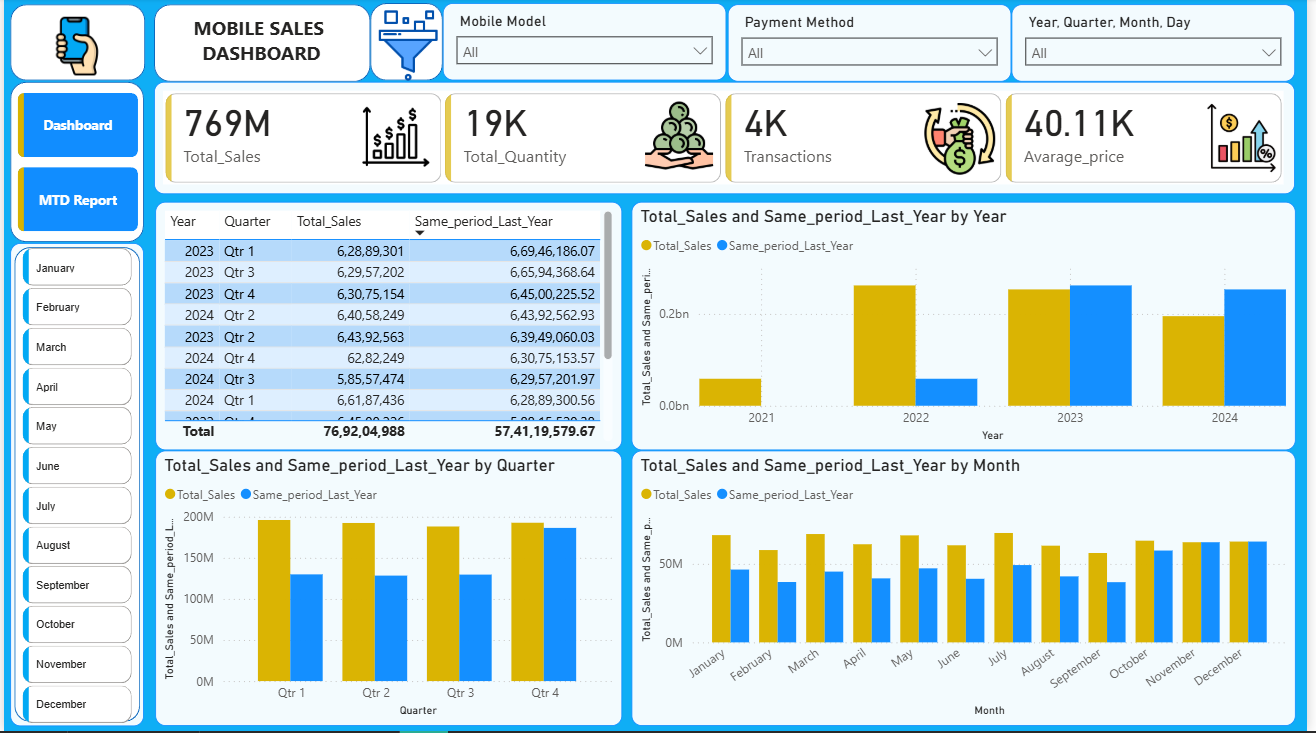

What the dashboard file says about the page in this screenshot:
{"tool":"powerbi","page":{"name":"Dashboard","canvas":[1280,720],"ordinal":0},"visuals":[{"type":"shape","box":[6.2,6.2,132.5,75],"z":0},{"type":"image","box":[35,18.8,75,57.5],"z":1000},{"type":"shape","box":[6.2,82.5,131.2,157.5],"z":2000},{"type":"shape","box":[7.5,240,131.2,473.8],"z":3000},{"type":"advancedSlicerVisual","fields":{"Values":["custom_calender.Date.Variation.Date Hierarchy.Month"]},"box":[13.8,240,117.5,480],"z":4000},{"type":"cardVisual","fields":{"Data":["sales_data.Total_Sales","sales_data.Total_Quantity","sales_data.Transactions","sales_data.Avarage_price"]},"box":[147.5,82.5,1120,110],"z":5000},{"type":"image","box":[337.5,100,93.8,73.8],"z":6000},{"type":"image","box":[616.2,100,93.8,71.2],"z":7000},{"type":"image","box":[900,102.5,77.5,70],"z":8000},{"type":"image","box":[1178.8,101.2,71.2,71.2],"z":9000},{"type":"slicer","fields":{"Values":["sales_data.Mobile Model"]},"box":[431.2,5,278.8,76.2],"z":10000},{"type":"slicer","fields":{"Values":["sales_data.Payment Method"]},"box":[710,6.2,278.8,76.2],"z":11000},{"type":"slicer","fields":{"Values":["sales_data.Brand"]},"box":[988.8,6.2,278.8,76.2],"z":12000},{"type":"shape","box":[360,5,71.2,76.2],"z":13000},{"type":"image","box":[360,11.2,75,71.2],"z":14000},{"type":"shape","box":[147.2,6.1,212.3,76.1],"z":15000},{"type":"textbox","box":[157.5,11.2,191.2,65],"z":16000},{"type":"map","fields":{"Category":["sales_data.City"],"Size":["sales_data.Total_Sales"]},"box":[147.5,197.5,283.8,325],"z":17000},{"type":"lineChart","fields":{"Category":["custom_calender.Date.Variation.Date Hierarchy.Month"],"Y":["sales_data.Total_Quantity"]},"box":[432.5,197.5,835,162.5],"z":18000},{"type":"funnel","title":" Customer Ratings by Rating_Status","fields":{"Category":["sales_data.Rating_Status"],"Y":["CountNonNull(sales_data.Customer Ratings)"]},"box":[432.5,362.5,417.5,160],"z":19000},{"type":"donutChart","fields":{"Y":["sales_data.Transactions"],"Category":["sales_data.Payment Method"]},"box":[850,362.5,417.5,160],"z":20000},{"type":"clusteredBarChart","fields":{"Y":["sales_data.Total_Sales"],"Category":["sales_data.Mobile Model"]},"box":[431.2,522.5,418.8,191.2],"z":21000},{"type":"areaChart","fields":{"Category":["custom_calender.Day Name"],"Y":["sales_data.Total_Sales"]},"box":[849.4,522.8,419.9,190.7],"z":22000},{"type":"tableEx","fields":{"Values":["sales_data.Brand","sales_data.Total_Sales","sales_data.Transactions"]},"box":[148,523,284,191],"z":23000},{"type":"pageNavigator","box":[13.7,93.3,118,137.2],"z":24000}]}

Visuals, with their boxes in screenshot pixels (x1, y1, x2, y2), scaled from the page's 1280x720 canvas onto the 1316x733 screenshot:
shape: [left=6, top=6, right=143, bottom=83]
image: [left=36, top=19, right=113, bottom=78]
shape: [left=6, top=84, right=141, bottom=244]
shape: [left=8, top=244, right=143, bottom=727]
advancedSlicerVisual - custom_calender.Date.Variation.Date Hierarchy.Month: [left=14, top=244, right=135, bottom=732]
cardVisual - sales_data.Total_Sales x sales_data.Total_Quantity: [left=152, top=84, right=1303, bottom=196]
image: [left=347, top=102, right=443, bottom=177]
image: [left=634, top=102, right=730, bottom=174]
image: [left=925, top=104, right=1005, bottom=176]
image: [left=1212, top=103, right=1285, bottom=176]
slicer - sales_data.Mobile Model: [left=443, top=5, right=730, bottom=83]
slicer - sales_data.Payment Method: [left=730, top=6, right=1017, bottom=84]
slicer - sales_data.Brand: [left=1017, top=6, right=1303, bottom=84]
shape: [left=370, top=5, right=443, bottom=83]
image: [left=370, top=11, right=447, bottom=84]
shape: [left=151, top=6, right=370, bottom=84]
textbox: [left=162, top=11, right=359, bottom=78]
map - sales_data.City x sales_data.Total_Sales: [left=152, top=201, right=443, bottom=532]
lineChart - custom_calender.Date.Variation.Date Hierarchy.Month x sales_data.Total_Quantity: [left=445, top=201, right=1303, bottom=366]
" Customer Ratings by Rating_Status" funnel: [left=445, top=369, right=874, bottom=532]
donutChart - sales_data.Transactions x sales_data.Payment Method: [left=874, top=369, right=1303, bottom=532]
clusteredBarChart - sales_data.Total_Sales x sales_data.Mobile Model: [left=443, top=532, right=874, bottom=727]
areaChart - custom_calender.Day Name x sales_data.Total_Sales: [left=873, top=532, right=1305, bottom=726]
tableEx - sales_data.Brand x sales_data.Total_Sales: [left=152, top=532, right=444, bottom=727]
pageNavigator: [left=14, top=95, right=135, bottom=235]
